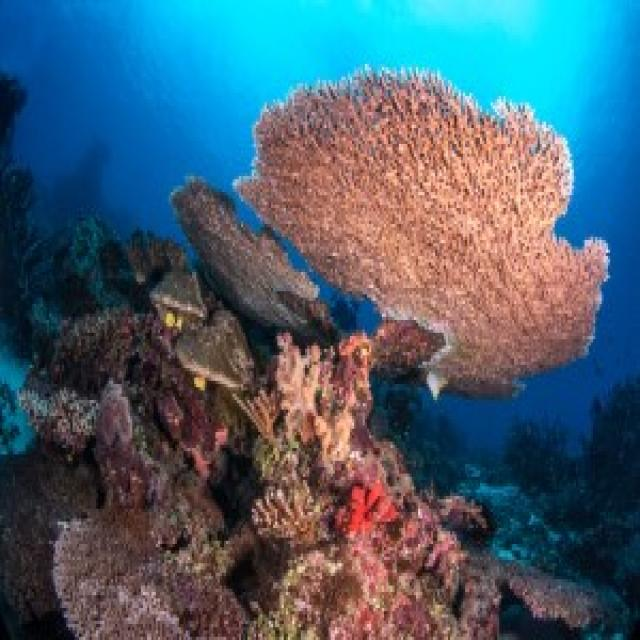Healthy: (240, 71, 607, 398), (54, 491, 246, 638), (251, 334, 383, 539), (172, 177, 327, 331), (270, 519, 460, 638), (22, 308, 148, 459), (97, 343, 214, 503), (1, 446, 95, 619), (462, 551, 609, 638)
